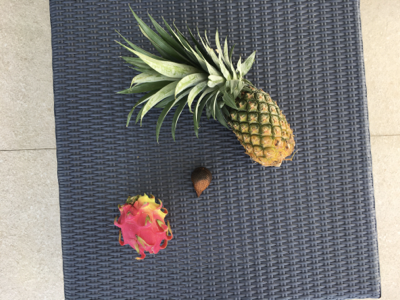dragon fruit: (114, 194, 175, 260)
pineapple: (112, 3, 296, 168)
snake fruit: (191, 165, 212, 196)
